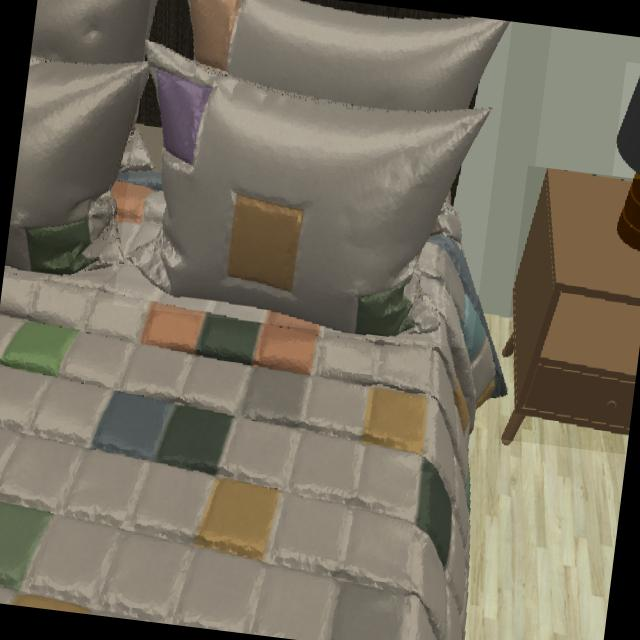lamp: (615, 76, 640, 252)
nighttable: (504, 169, 640, 439)
pillow: (144, 0, 511, 333)
